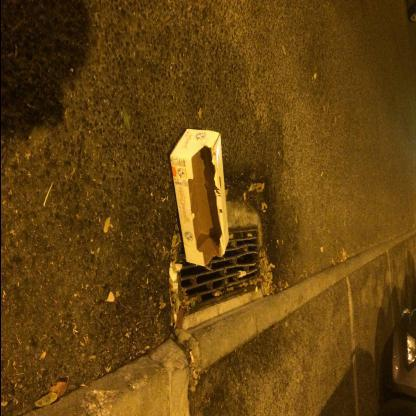karton: (170, 128, 230, 268)
